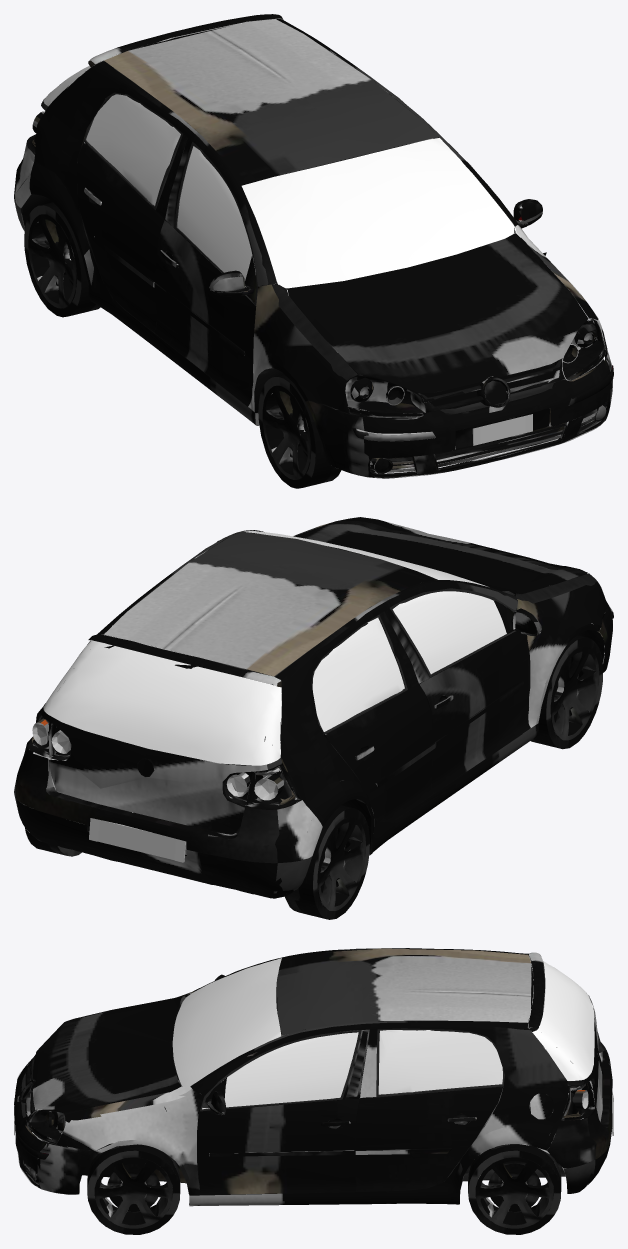
The model's file is Golf.fbx.
3 views of the same model, one above another, from view 1: azimuth 30°, elevation 25°; view 2: azimuth 150°, elevation 25°; view 3: azimuth 270°, elevation 25° (orthographic). The views are drawn at different scales.
Visible parts, largest first — view 1: TRAFFIC_010 Body_LOD0, TRAFFIC_010 WFL_LOD0, TRAFFIC_010 WRL_LOD0, Lights_LOD0, TRAFFIC_010 Signs_LOD0; view 2: TRAFFIC_010 Body_LOD0, TRAFFIC_010 WRL_LOD0, TRAFFIC_010 WFL_LOD0, TRAFFIC_010 Signs_LOD0, Lights_LOD0, Stops_LOD0, Right_Ind_LOD0; view 3: TRAFFIC_010 Body_LOD0, TRAFFIC_010 WRR_LOD0, TRAFFIC_010 WFR_LOD0, Lights_LOD0, Left_Ind_LOD0.
Part boxes in pixels (<box>): TRAFFIC_010 Body_LOD0: <box>14,14,613,478</box>; TRAFFIC_010 WFL_LOD0: <box>258,374,341,488</box>; TRAFFIC_010 WRL_LOD0: <box>24,202,100,317</box>; Lights_LOD0: <box>28,105,606,418</box>; TRAFFIC_010 Signs_LOD0: <box>472,414,532,445</box>; TRAFFIC_010 Body_LOD0: <box>14,517,613,898</box>; TRAFFIC_010 WRL_LOD0: <box>285,805,369,919</box>; TRAFFIC_010 WFL_LOD0: <box>531,635,603,749</box>; TRAFFIC_010 Signs_LOD0: <box>89,818,185,862</box>; Lights_LOD0: <box>28,574,586,809</box>; Stops_LOD0: <box>51,730,250,796</box>; Right_Ind_LOD0: <box>254,774,283,800</box>; TRAFFIC_010 Body_LOD0: <box>14,948,612,1206</box>; TRAFFIC_010 WRR_LOD0: <box>468,1144,561,1234</box>; TRAFFIC_010 WFR_LOD0: <box>87,1143,180,1234</box>; Lights_LOD0: <box>27,1078,595,1144</box>; Left_Ind_LOD0: <box>28,1090,588,1143</box>.
Size of what is drawn, in the model's own units: 2.14 by 4.12 by 1.48.
